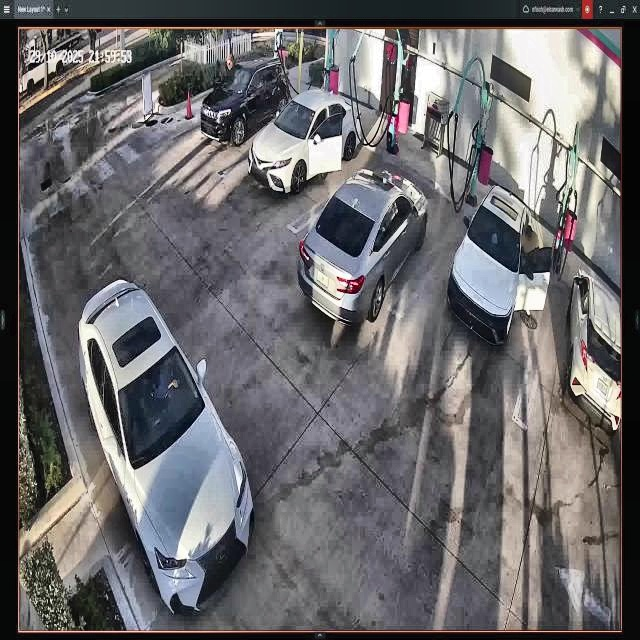Car: (79, 277, 254, 614), (298, 168, 426, 322), (448, 187, 552, 345), (251, 90, 360, 193), (202, 57, 292, 146)
